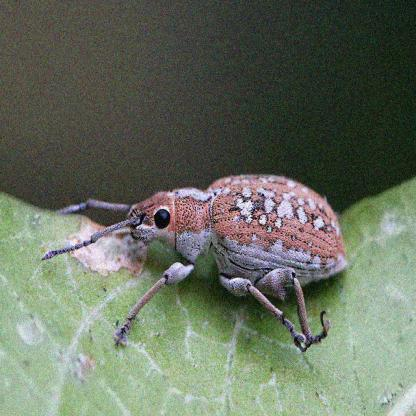ash weevil: (41, 175, 349, 352)
